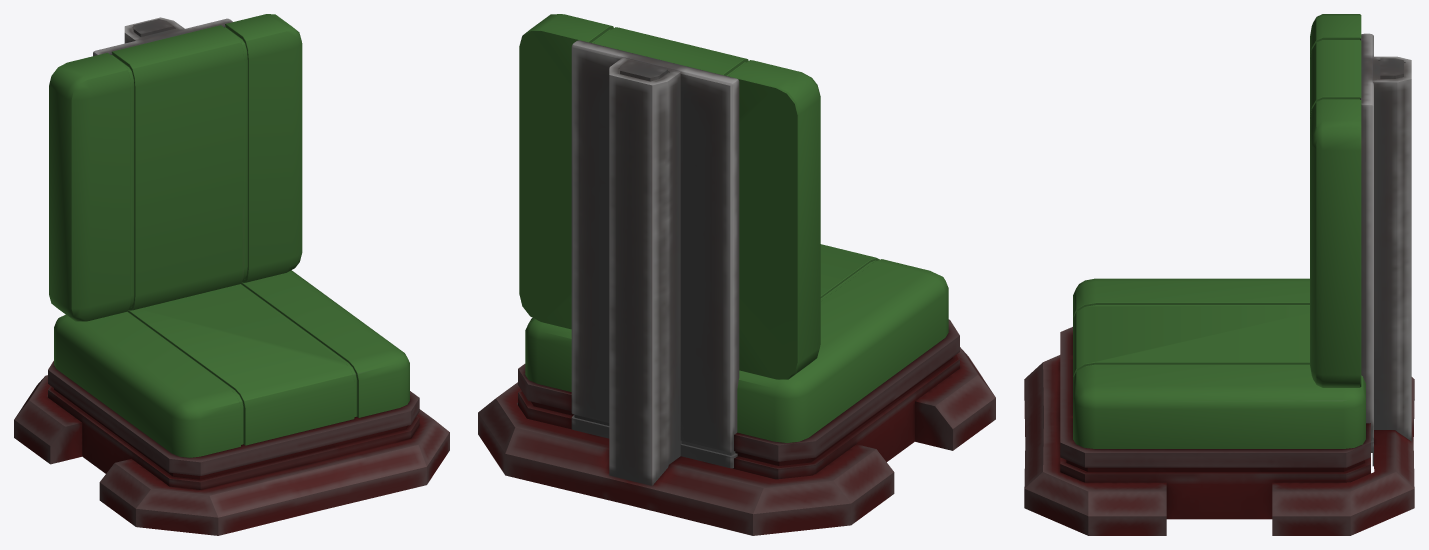
The model's file is Chair_1.fbx.
The picture shows the model from 3 angles, left to right: view 1: azimuth 30°, elevation 25°; view 2: azimuth 150°, elevation 25°; view 3: azimuth 270°, elevation 25°; orthographic projection. The views are drawn at different scales.
Visible parts, largest first — view 1: Chair_1; view 2: Chair_1; view 3: Chair_1.
Boxes of the visible parts, <box> form: Chair_1: <box>14,14,449,535</box>; Chair_1: <box>478,14,995,535</box>; Chair_1: <box>1024,14,1414,535</box>.
Bounding box in the file's own units: 92.65 × 101 × 92.68.
